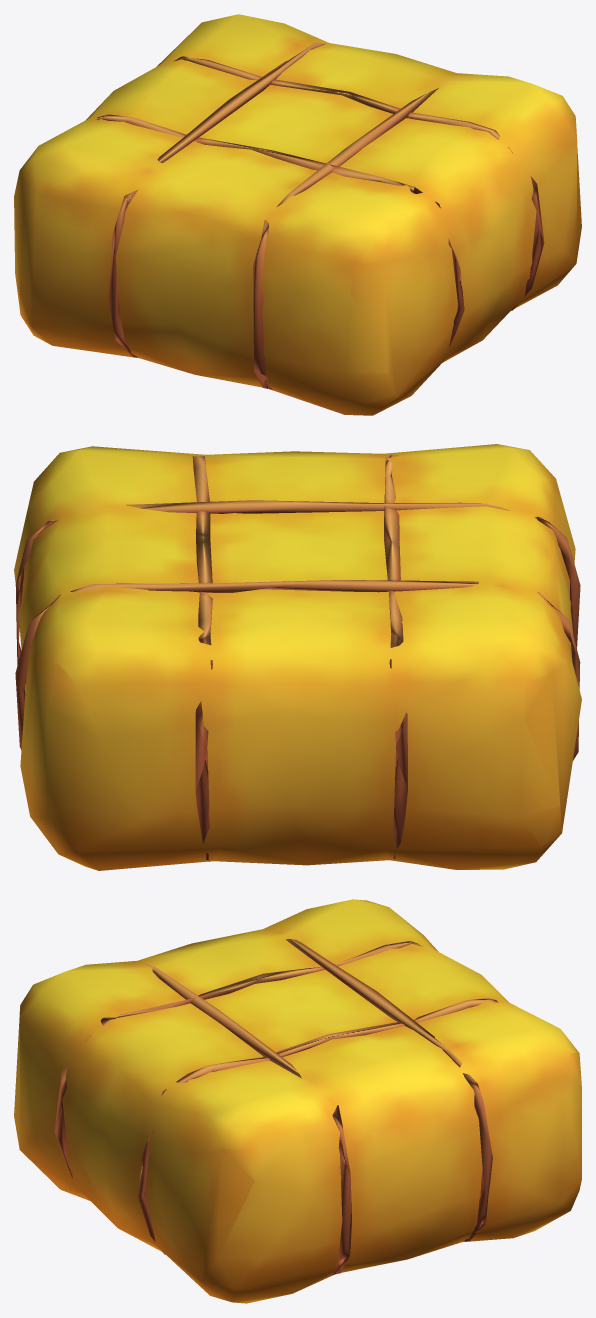
The model's file is Barn@Hay.fbx.
3 renders of one model, top to bottom at view 1: azimuth 30°, elevation 25°; view 2: azimuth 150°, elevation 25°; view 3: azimuth 270°, elevation 25°, orthographic. The views are drawn at different scales.
Parts seen in each view (by area): view 1: Seno; view 2: Seno; view 3: Seno.
Part boxes in pixels (<box>): Seno: <box>14,14,581,415</box>; Seno: <box>14,444,581,870</box>; Seno: <box>14,899,581,1303</box>.
Bounding box in the file's own units: 117 × 45.8 × 116.
1 material, 1 textured.
